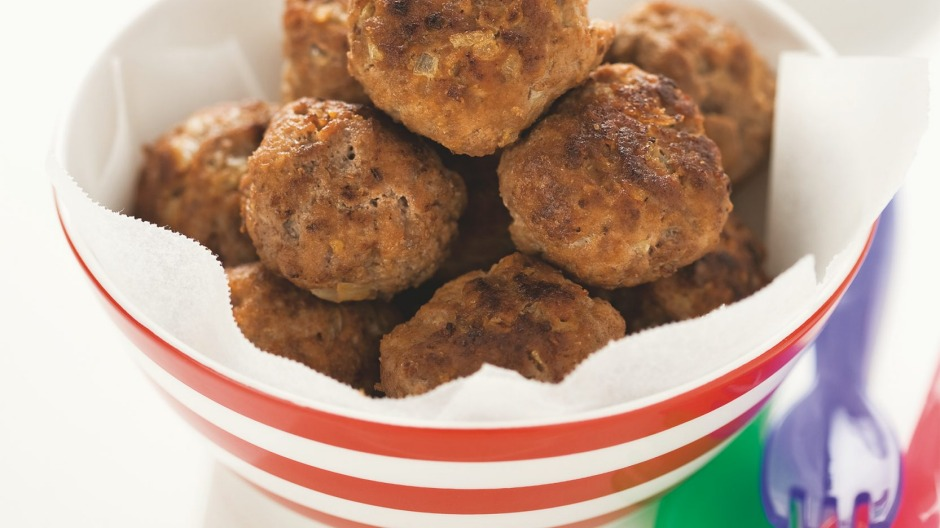meatballs: (129, 1, 839, 385), (495, 74, 737, 274), (240, 88, 454, 307), (334, 4, 598, 153), (372, 261, 635, 398)
